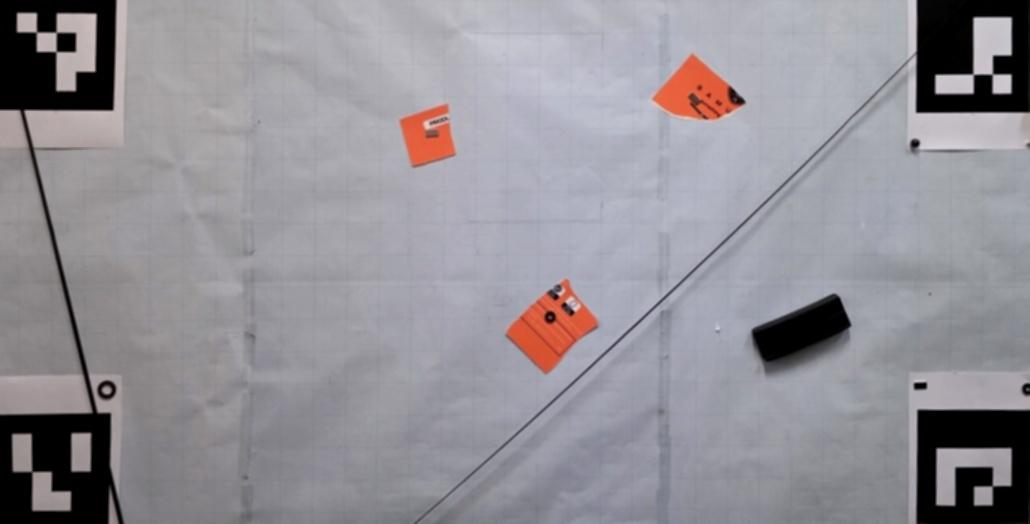obstacle: (505, 279, 598, 374), (751, 295, 851, 363), (653, 53, 747, 121), (401, 103, 456, 167)
